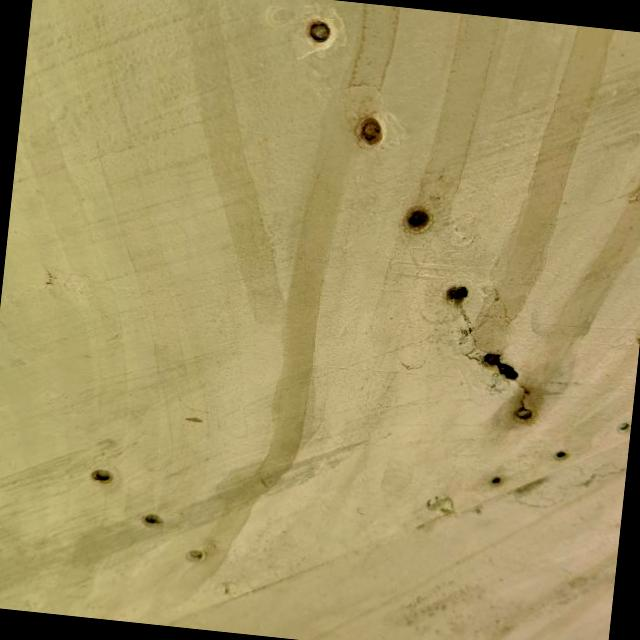crack: (425, 318, 557, 438)
